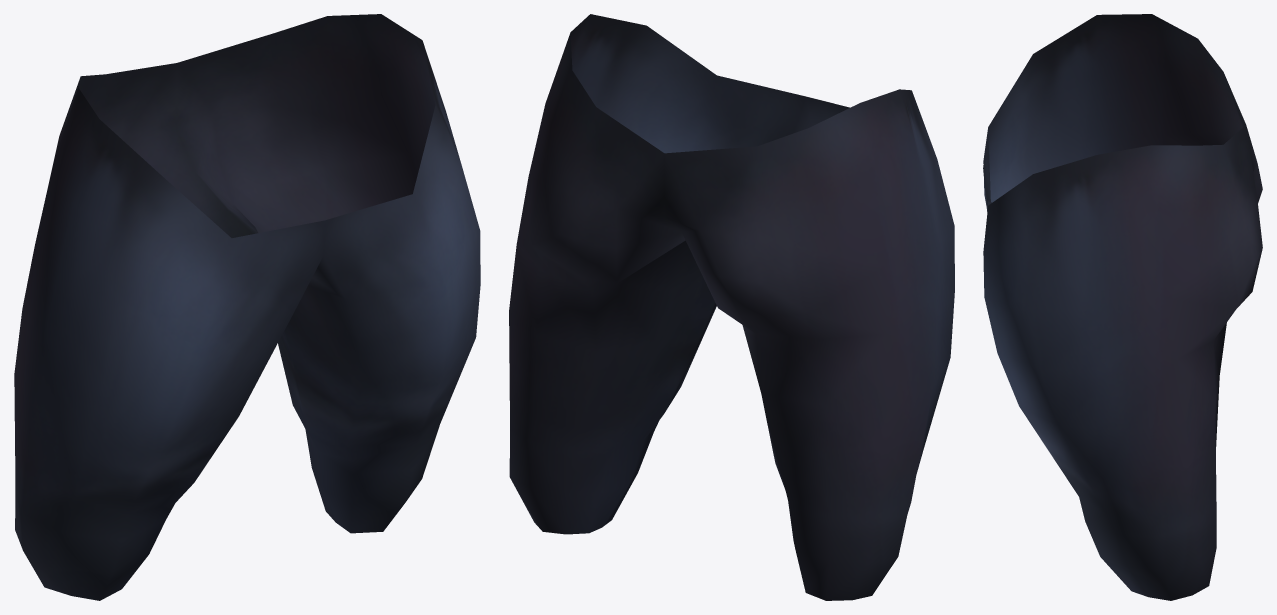
File: zhanshi_xiashen.FBX
The picture shows the model from 3 angles, left to right: view 1: azimuth 30°, elevation 25°; view 2: azimuth 150°, elevation 25°; view 3: azimuth 270°, elevation 25°; orthographic projection. The views are drawn at different scales.
Visible parts, largest first — view 1: zhanshi_xiashen; view 2: zhanshi_xiashen; view 3: zhanshi_xiashen.
Boxes of the visible parts, x1,y1,x2,y2 form: zhanshi_xiashen: [14, 14, 480, 600]; zhanshi_xiashen: [509, 14, 954, 600]; zhanshi_xiashen: [983, 14, 1262, 600].
Bounding box in the file's own units: 30.29 × 34.42 × 19.38.
